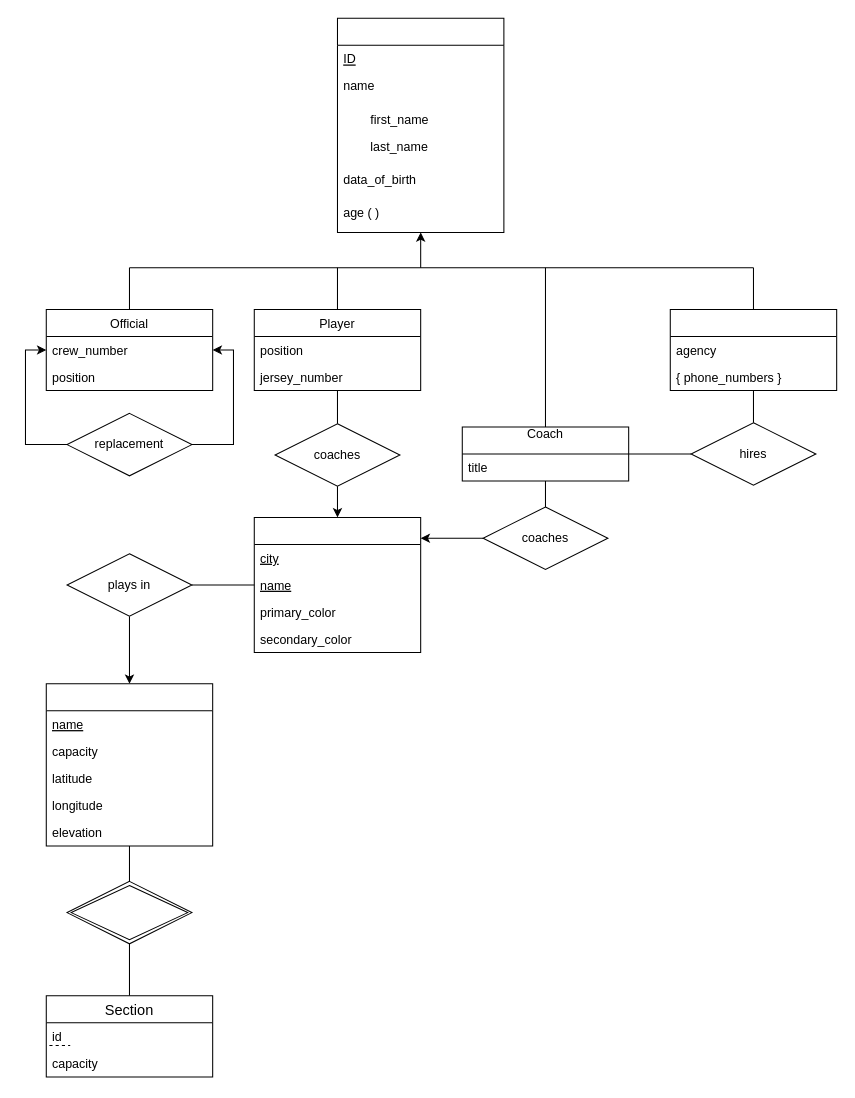
Image size: 855x1098. Some labels were removed from this diagram. The shapes that lost their labels are listed below. From the top down, each one's box as (x1, y1, x2, y2) in pixels, then its label:
(336, 17, 504, 232): Person
(669, 308, 837, 391): Agent
(253, 516, 421, 653): Team
(45, 683, 213, 846): Stadium
(66, 880, 192, 944): stadium has
